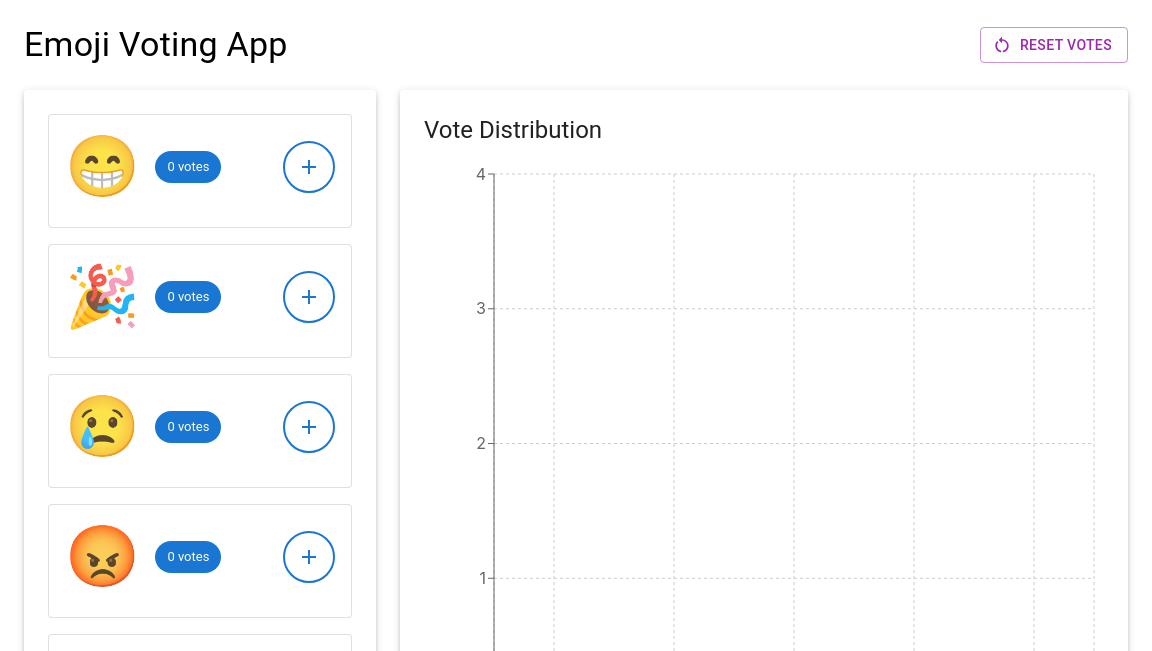
Scenario: EmojiVoting Tests › should handle multiple rapid clicks correctly
What coordinates should you click on to do the following:
click the 2nd button
I would click on:
 (309, 167)
Its box is [283, 141, 335, 193].
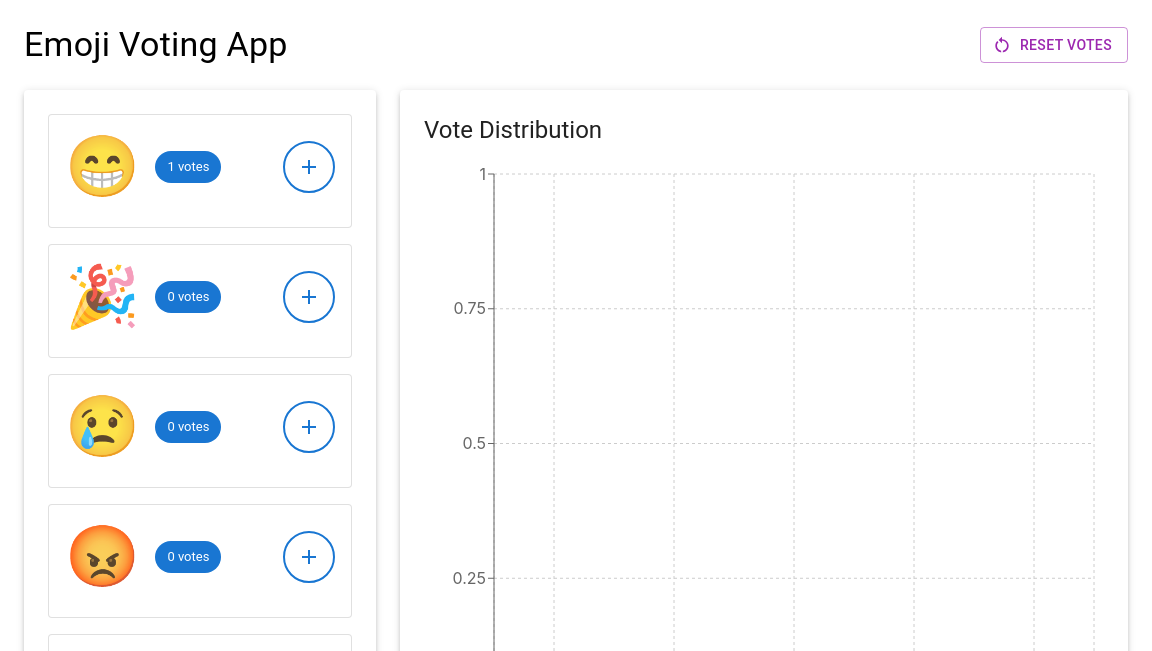
What coordinates should you click on to do the following:
click the button without text next to "1 votes"
I would click on:
 (309, 167)
Its box is [283, 141, 335, 193].
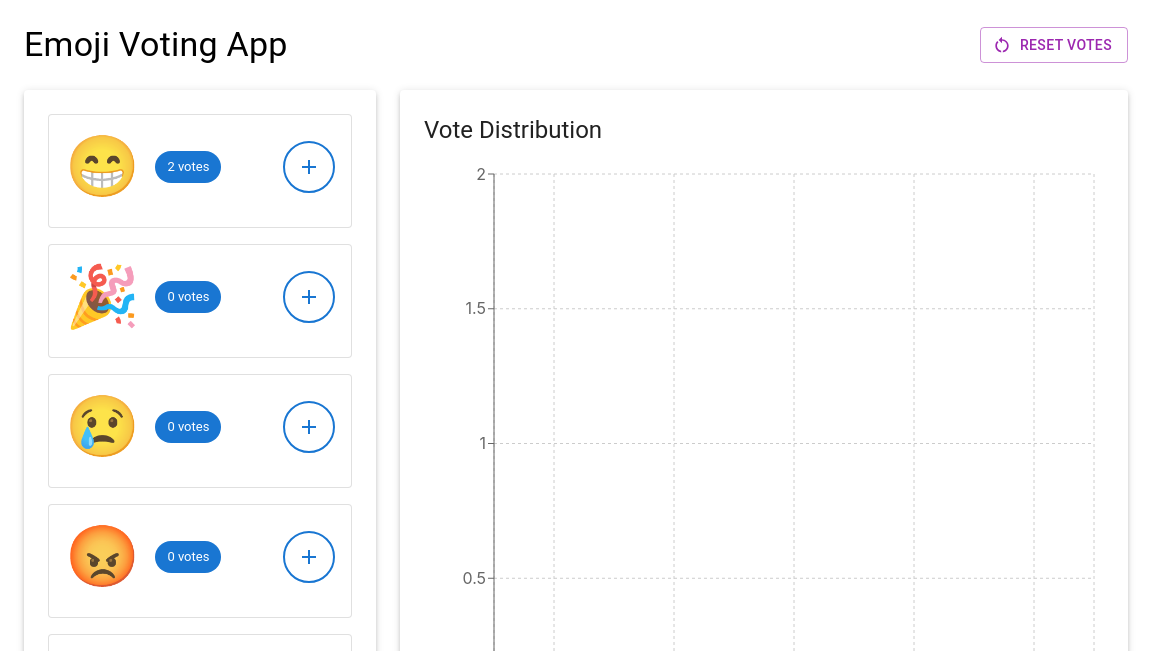
What coordinates should you click on to do the following:
click the button without text next to "2 votes"
I would click on:
 (309, 167)
Its box is [283, 141, 335, 193].
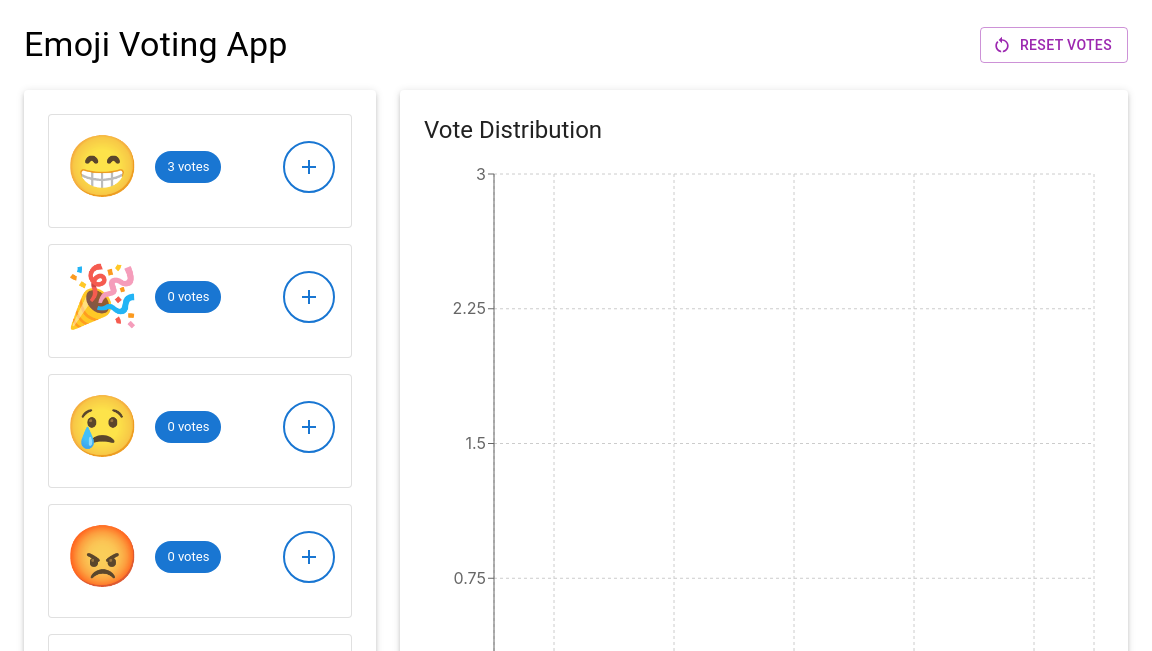
What coordinates should you click on to do the following:
click the button without text next to "3 votes"
I would click on:
 (309, 167)
Its box is [283, 141, 335, 193].
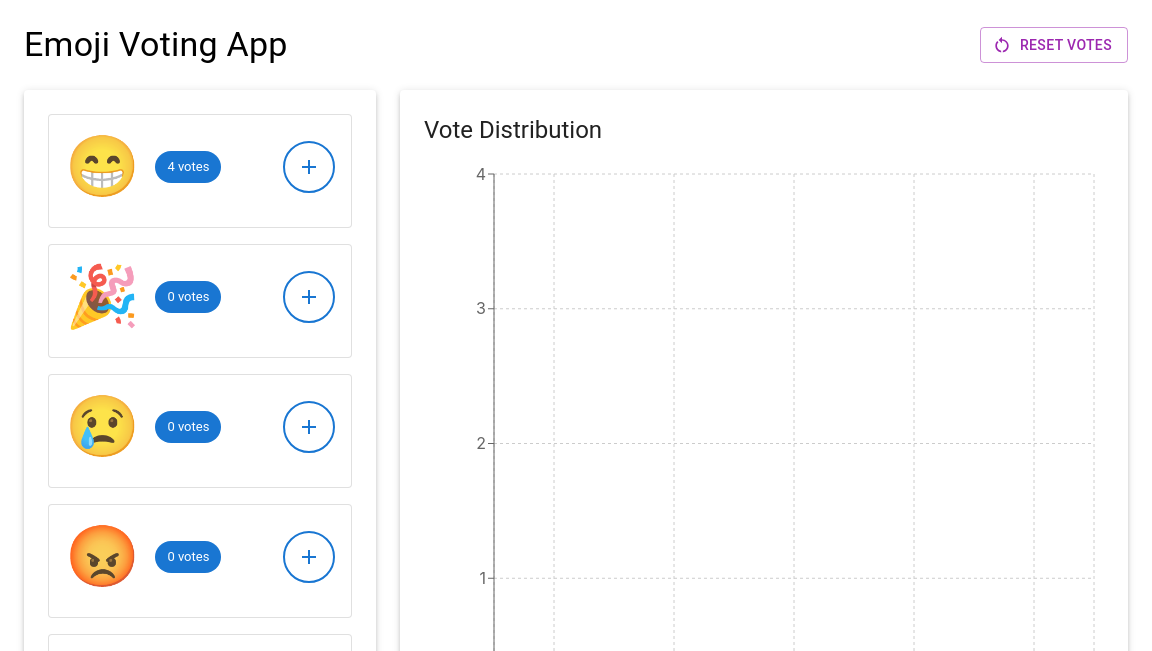
What coordinates should you click on to do the following:
click the button without text next to "4 votes"
I would click on:
 (309, 167)
Its box is [283, 141, 335, 193].
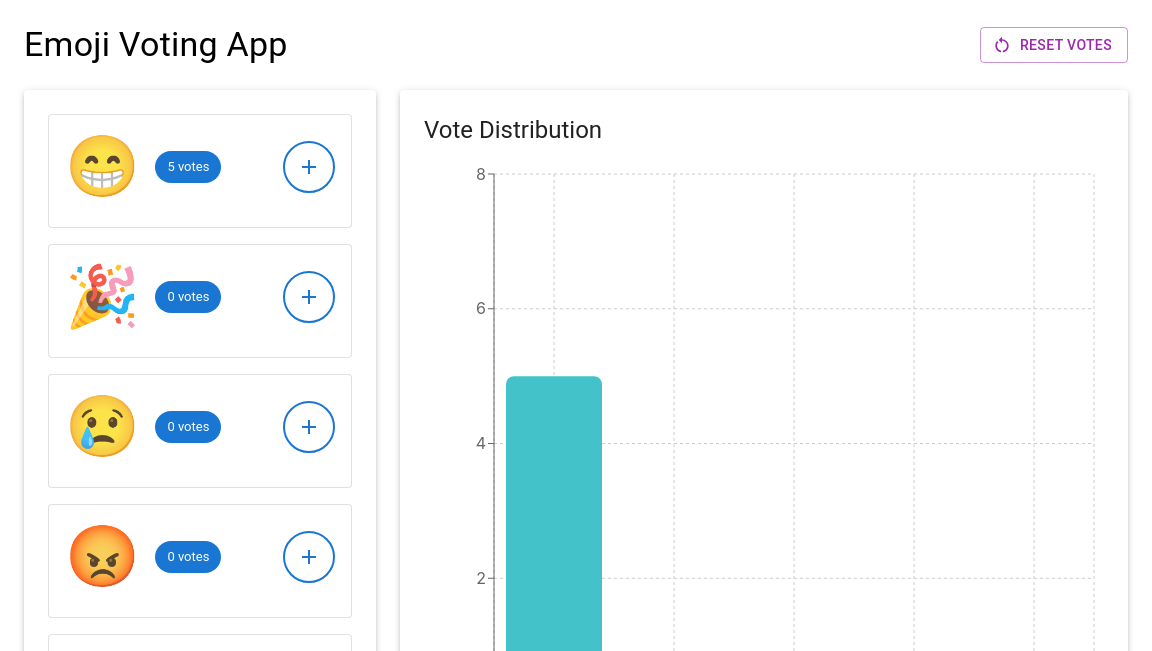
Check: the text "5 votes" is shown, box [167, 159, 209, 174]
